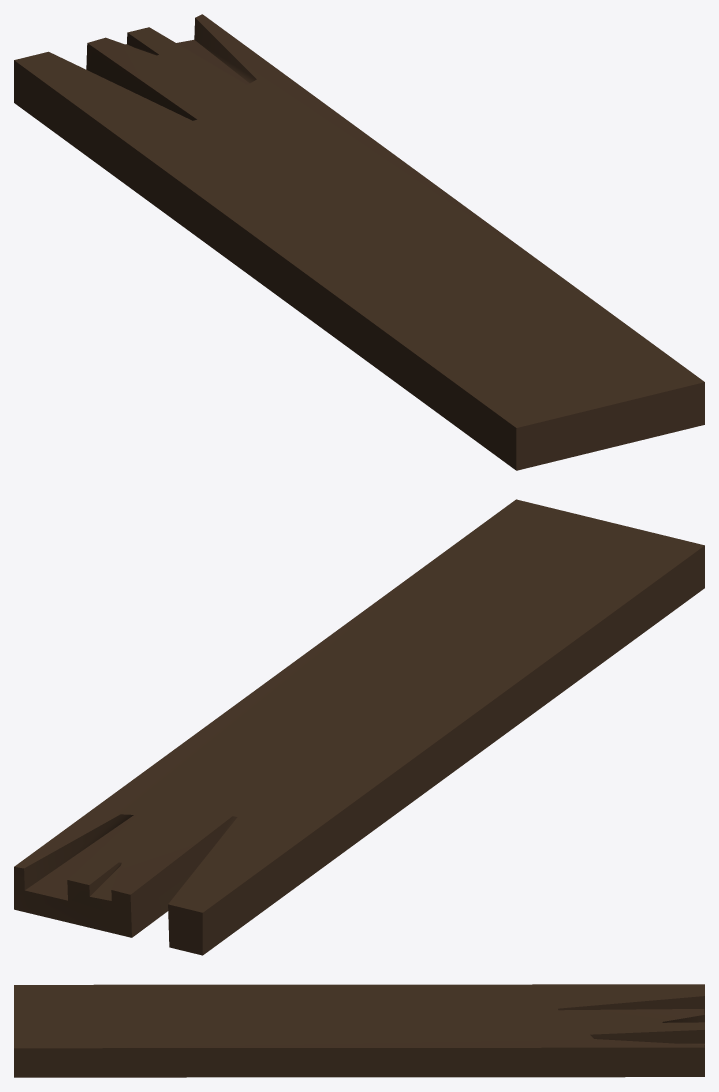
Rendered from maderaRota.fbx.
3 views of the same model, one above another, from view 1: azimuth 30°, elevation 25°; view 2: azimuth 150°, elevation 25°; view 3: azimuth 270°, elevation 25° (orthographic). The views are drawn at different scales.
Parts seen in each view (by area): view 1: maderaRota; view 2: maderaRota; view 3: maderaRota.
Boxes of the visible parts, x1,y1,x2,y2 form: maderaRota: [14, 14, 704, 470]; maderaRota: [14, 499, 704, 955]; maderaRota: [14, 984, 704, 1077].
Size of the model in its own units: 22.55 by 4.98 by 104.
